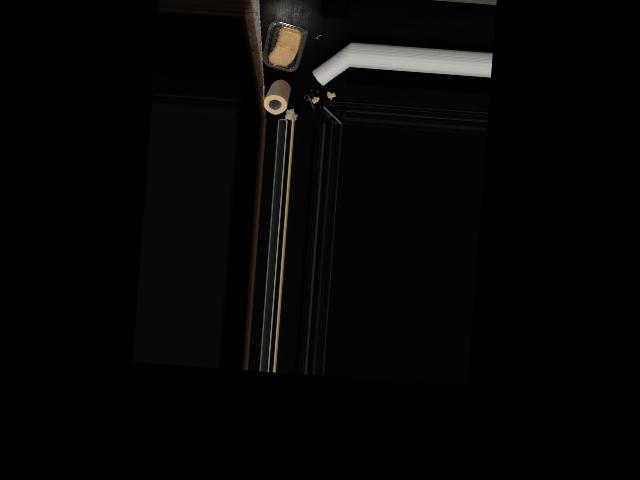cheese: (265, 19, 307, 72)
